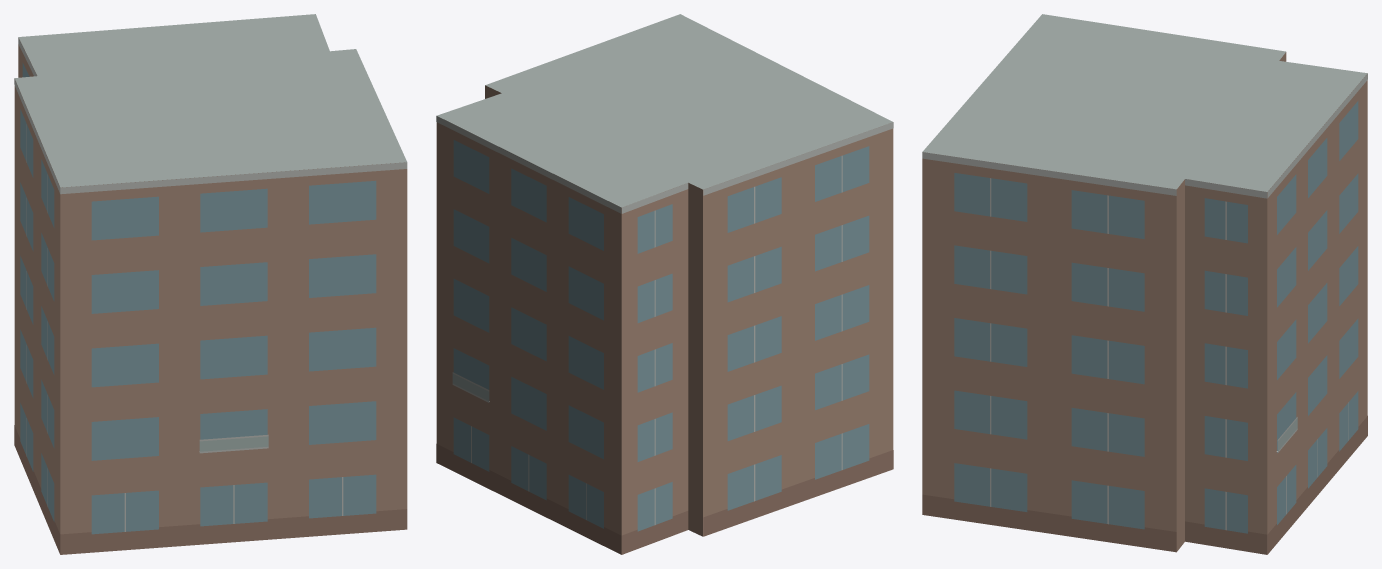
File: survey-upis-32894347.glb
3 renders of one model, left to right at view 1: azimuth 30°, elevation 25°; view 2: azimuth 150°, elevation 25°; view 3: azimuth 270°, elevation 25°, orthographic. The views are drawn at different scales.
Visible parts, largest first — view 1: survey-upis-32894347.tmp; view 2: survey-upis-32894347.tmp; view 3: survey-upis-32894347.tmp.
Part boxes in pixels (x1,y1,x2,y2): survey-upis-32894347.tmp: (14, 14, 407, 554); survey-upis-32894347.tmp: (436, 14, 893, 554); survey-upis-32894347.tmp: (922, 14, 1367, 554).
Size of the model in its own units: 14.11 by 13.4 by 14.92.
